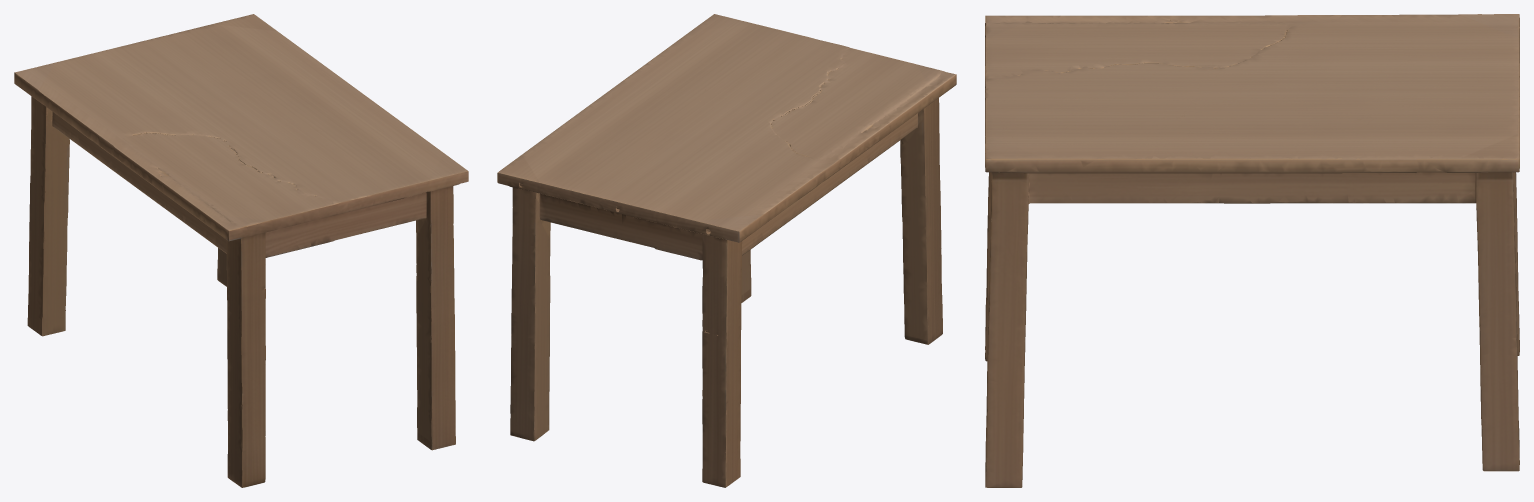
Rendered from table.glb.
The picture shows the model from 3 angles, left to right: view 1: azimuth 30°, elevation 25°; view 2: azimuth 150°, elevation 25°; view 3: azimuth 270°, elevation 25°; orthographic projection. The views are drawn at different scales.
Visible parts, largest first — view 1: geometry_0; view 2: geometry_0; view 3: geometry_0.
Boxes of the visible parts, bbox=[...] form: geometry_0: bbox=[14, 14, 468, 487]; geometry_0: bbox=[497, 14, 956, 487]; geometry_0: bbox=[985, 14, 1519, 487].
Bounding box in the file's own units: 1.2 × 1.29 × 1.86.
1 material, 1 textured.
